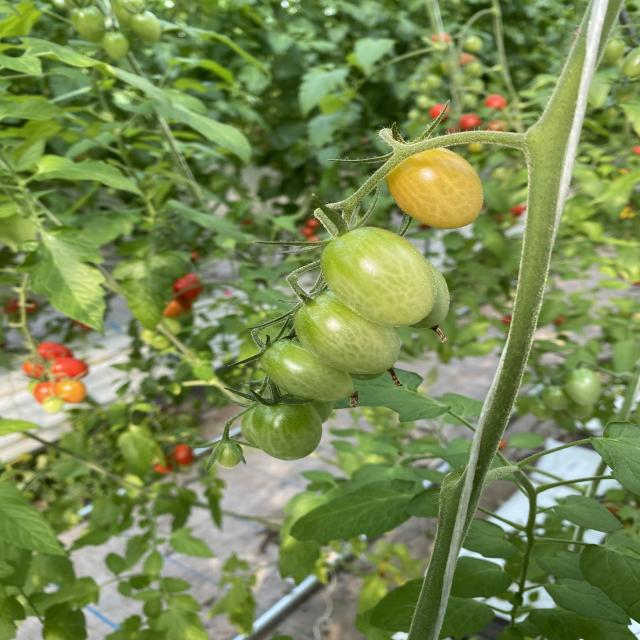yesil: (231, 219, 453, 465)
